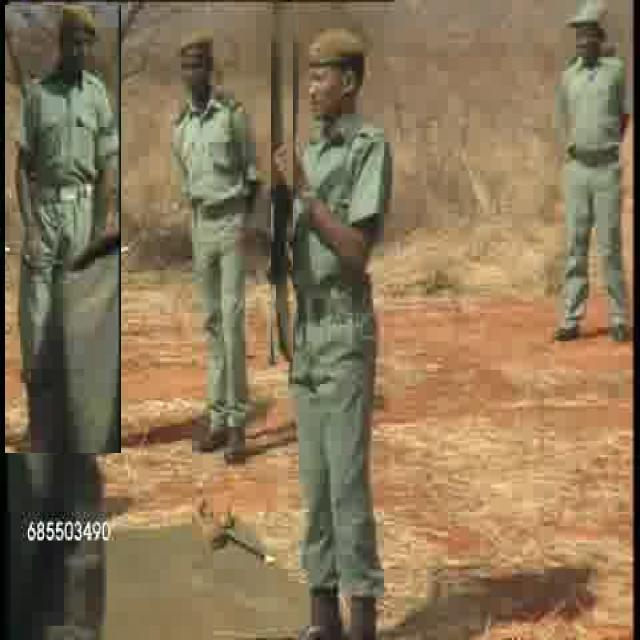poacher: (274, 2, 404, 640), (150, 7, 266, 493), (5, 6, 121, 453), (541, 2, 640, 356)
weapon: (271, 2, 293, 362)
